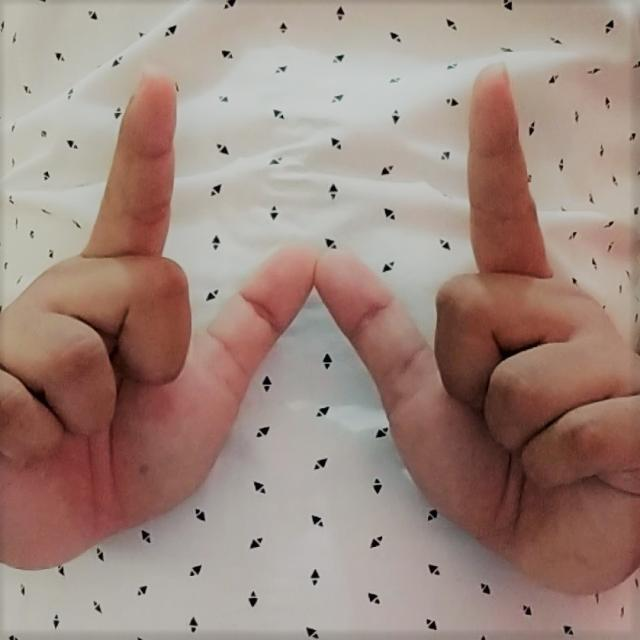W: (2, 67, 640, 621)
